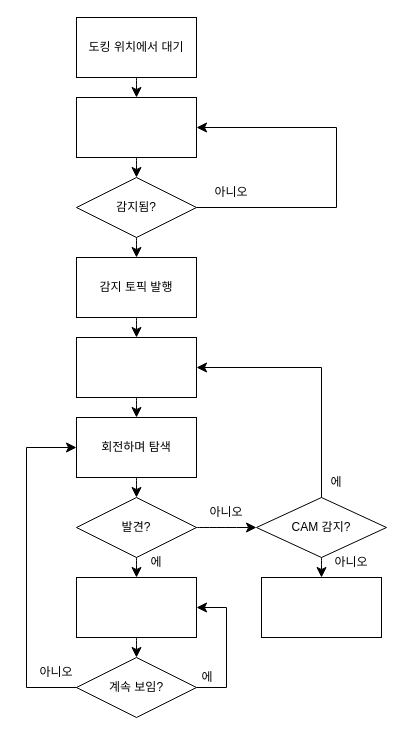
This 404x735 diagram has some shape labels left out. The shapes that lost their labels are listed below. From the top down, each one's box as (x1, y1, x2, y2) in pixels, then its label:
(76, 96, 196, 158): 고정 CAM 미니카 탐지
(76, 336, 196, 398): 언도킹 후 근처로 이동
(76, 576, 196, 638): 미니카 추적
(260, 576, 382, 638): 도킹 위치 복귀
